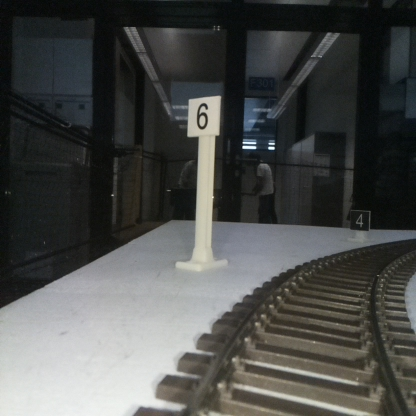black-stop-4: (350, 210, 370, 242)
white-info-6: (188, 97, 219, 269)
